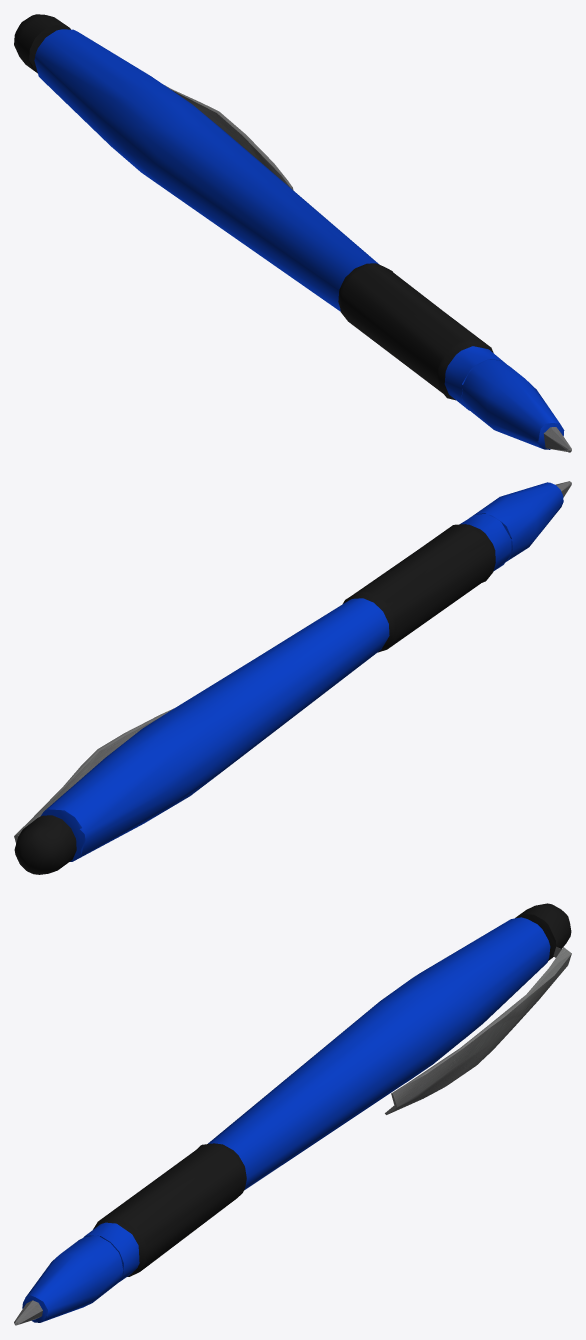
The model's file is Pen.FBX.
3 renders of one model, top to bottom at view 1: azimuth 30°, elevation 25°; view 2: azimuth 150°, elevation 25°; view 3: azimuth 330°, elevation 25°, orthographic. The views are drawn at different scales.
Visible parts, largest first — view 1: Pen; view 2: Pen; view 3: Pen.
Boxes of the visible parts, x1=… form: Pen: x1=14, y1=14, x2=571, y2=452; Pen: x1=14, y1=481, x2=571, y2=874; Pen: x1=14, y1=903, x2=571, y2=1325.
Size of the model in its own units: 1.61 by 1.19 by 15.44.
Materials: 1 (1 with a texture image).
